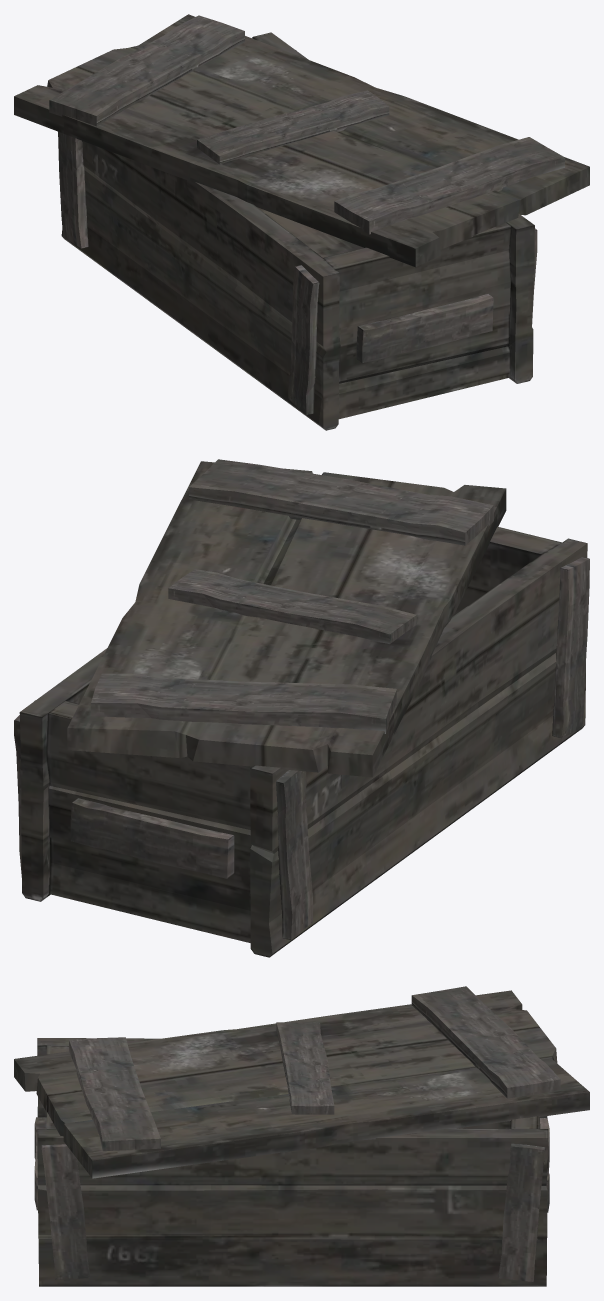
File: crate_open.glb
3 renders of one model, top to bottom at view 1: azimuth 30°, elevation 25°; view 2: azimuth 150°, elevation 25°; view 3: azimuth 270°, elevation 25°, orthographic. The views are drawn at different scales.
Visible parts, largest first — view 1: medieval_crate_og001_Standardmaterial_0, lid_wide_og_Standardmaterial_0; view 2: medieval_crate_og001_Standardmaterial_0, lid_wide_og_Standardmaterial_0; view 3: medieval_crate_og001_Standardmaterial_0, lid_wide_og_Standardmaterial_0.
Boxes of the visible parts, left/top/right/bottom form: medieval_crate_og001_Standardmaterial_0: left=58, top=32, right=537, bottom=430; lid_wide_og_Standardmaterial_0: left=14, top=14, right=589, bottom=267; medieval_crate_og001_Standardmaterial_0: left=14, top=526, right=589, bottom=957; lid_wide_og_Standardmaterial_0: left=67, top=459, right=506, bottom=777; medieval_crate_og001_Standardmaterial_0: left=34, top=1038, right=549, bottom=1286; lid_wide_og_Standardmaterial_0: left=14, top=986, right=589, bottom=1178.
Bounding box in the file's own units: 37.28 × 18.35 × 53.3.
Materials: 2 (2 with a texture image).
